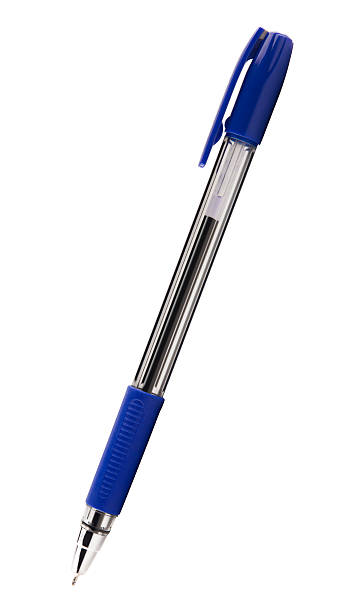pen: (50, 18, 318, 603)
